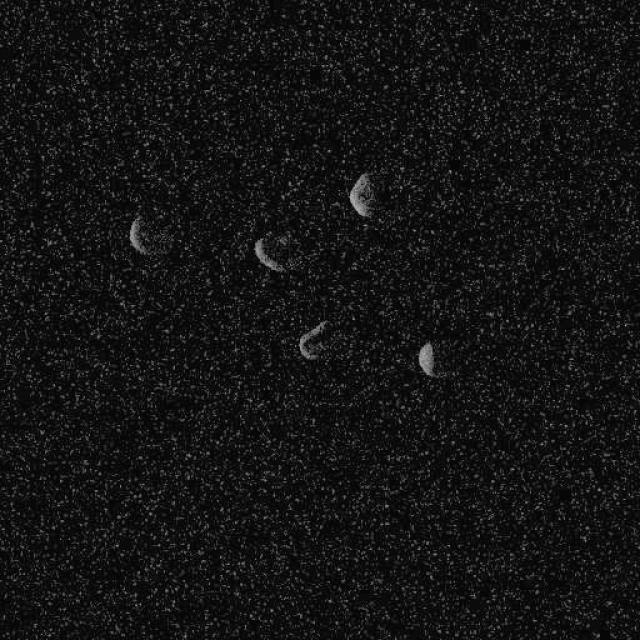D2: (348, 171, 378, 219), (298, 319, 330, 360), (253, 235, 285, 273), (128, 214, 148, 255), (416, 340, 435, 378)
